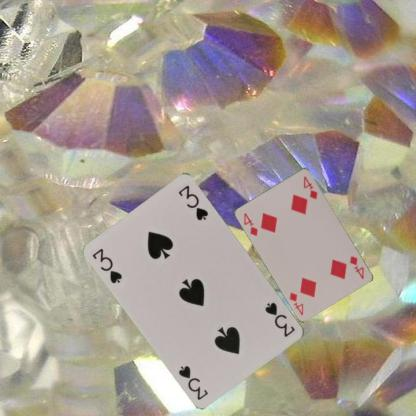3s: (262, 299, 296, 339), (90, 245, 124, 285)
4d: (242, 210, 260, 238), (347, 254, 365, 280)
